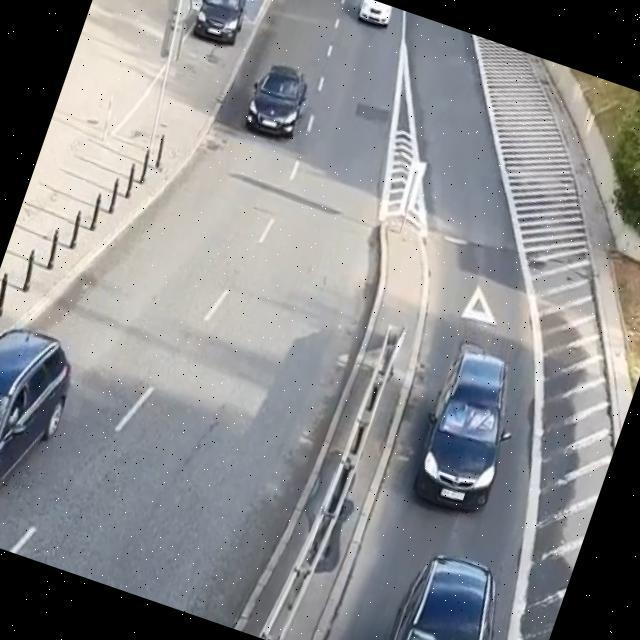car: (416, 345, 506, 510), (0, 330, 70, 482), (392, 558, 495, 639), (246, 66, 306, 134), (194, 0, 245, 43), (359, 0, 392, 26)
